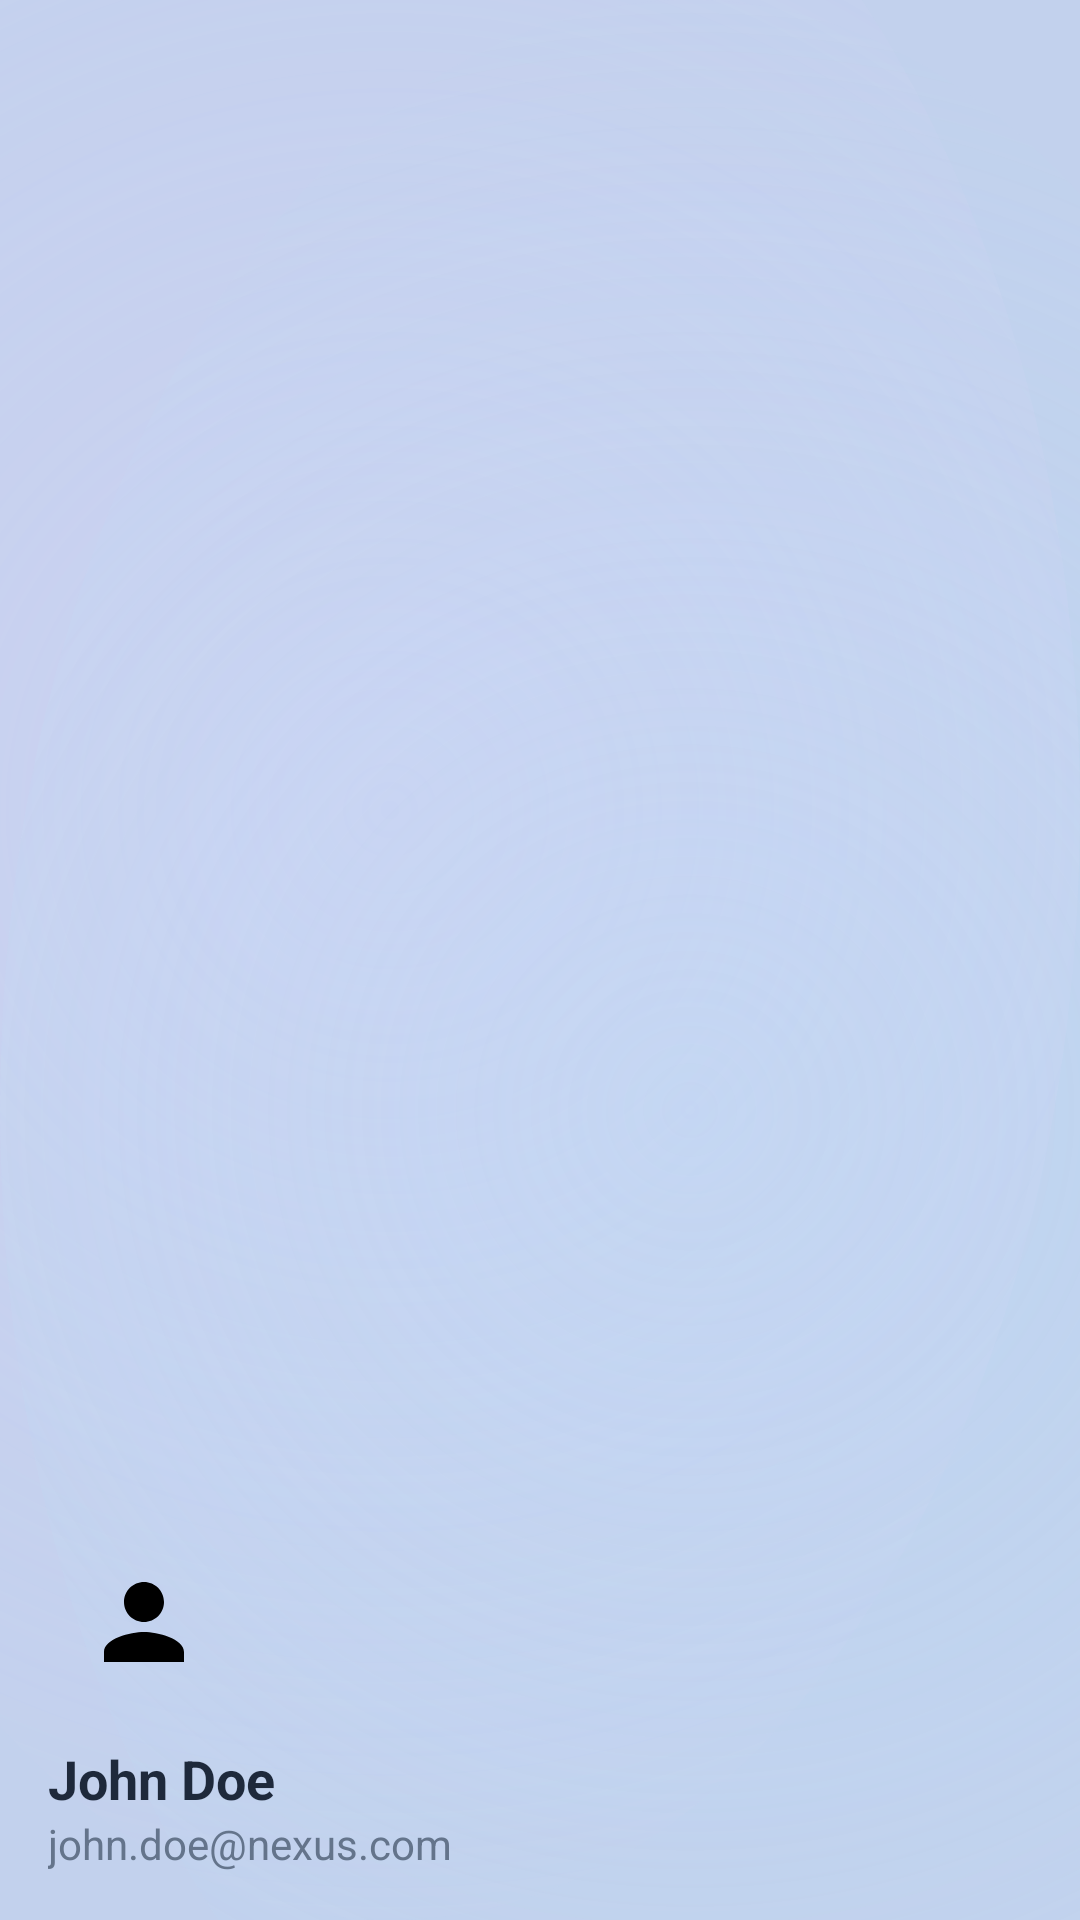

Named icons in this screenshot (1080*1920) and their centers, [x,y]:
Profile Image: [144,1622]
